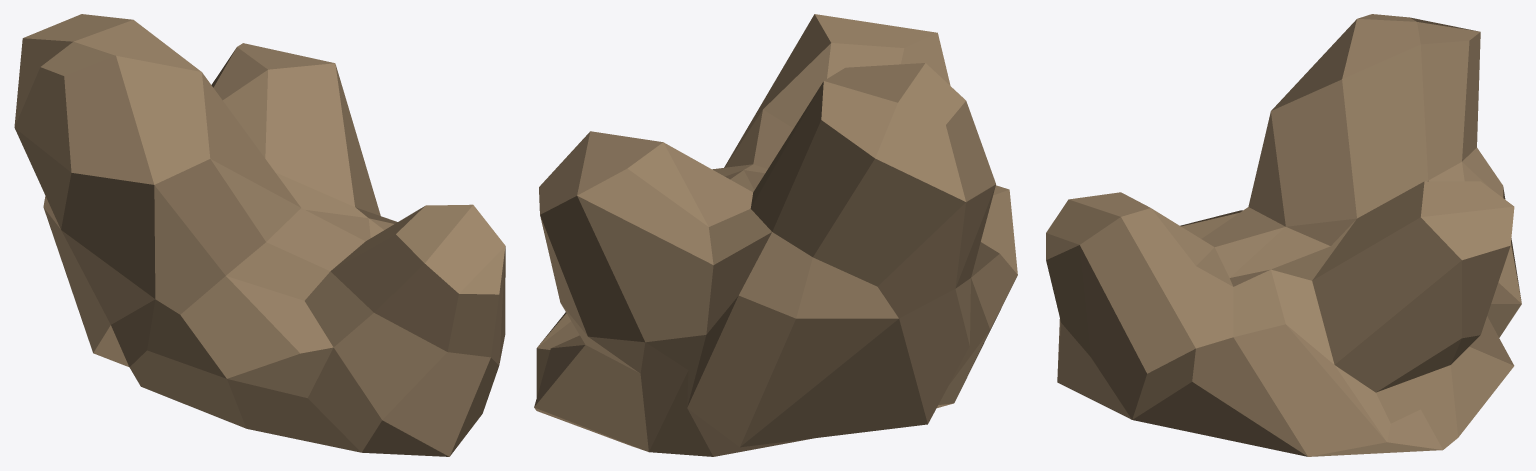
Rendered from Hshitou1.FBX.
3 views of the same model, side by side, from view 1: azimuth 30°, elevation 25°; view 2: azimuth 150°, elevation 25°; view 3: azimuth 270°, elevation 25° (orthographic). The views are drawn at different scales.
Parts seen in each view (by area): view 1: 对象014; view 2: 对象014; view 3: 对象014.
Boxes of the visible parts, x1=… form: 对象014: x1=14, y1=14, x2=505, y2=456; 对象014: x1=534, y1=14, x2=1017, y2=456; 对象014: x1=1046, y1=14, x2=1521, y2=456.
Size of the model in its own units: 15.68 by 12.78 by 18.14.
